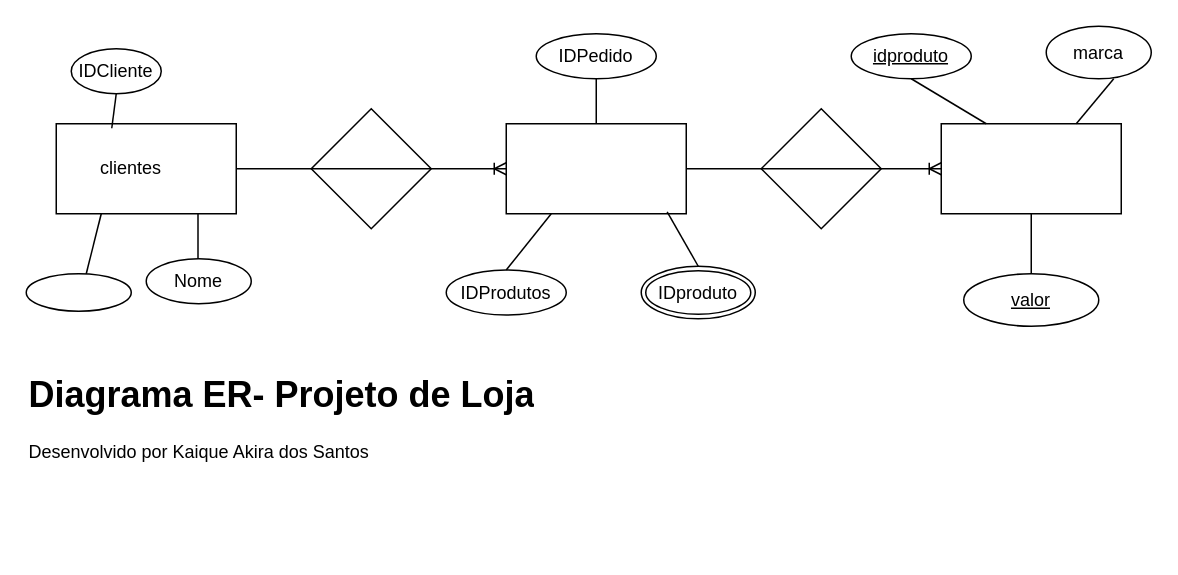
Image size: 1178x575. Some labels were removed from this diagram. Here are the shapes that lost their labels. From the top down, the box of each, then its label:
(505, 122, 686, 214): pedidos
(940, 122, 1121, 214): produtos
(25, 272, 131, 311): email
